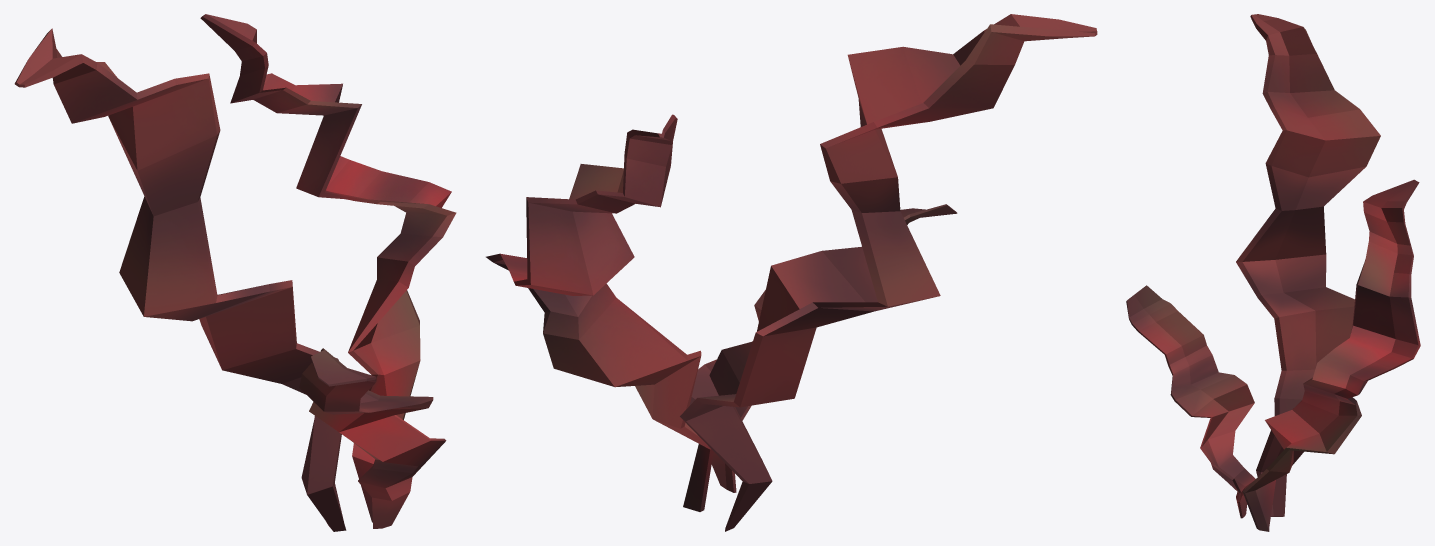
File: algues_rouges.fbx
3 views of the same model, side by side, from view 1: azimuth 30°, elevation 25°; view 2: azimuth 150°, elevation 25°; view 3: azimuth 270°, elevation 25° (orthographic). The views are drawn at different scales.
Parts seen in each view (by area): view 1: algues rouges; view 2: algues rouges; view 3: algues rouges.
Boxes of the visible parts, x1,y1,x2,y2 form: algues rouges: (14,14,456,531); algues rouges: (486,14,1097,531); algues rouges: (1126,14,1420,531).
Size of the model in its own units: 416 by 435 by 291.
